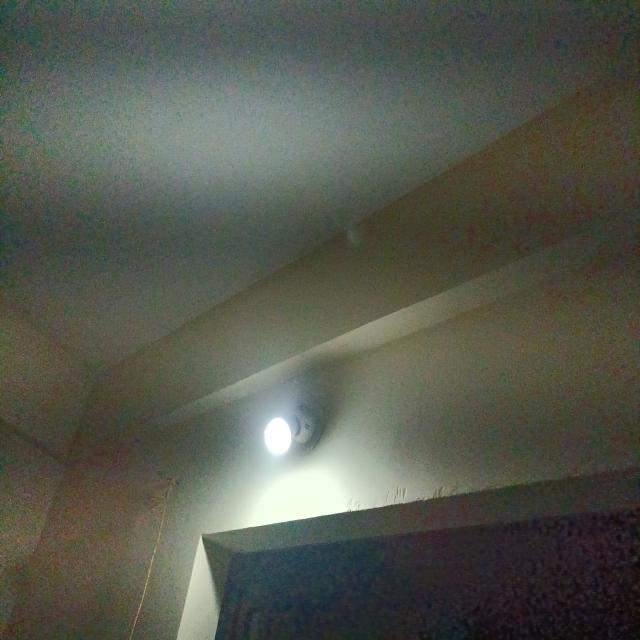bulb_on: (262, 415, 292, 457)
